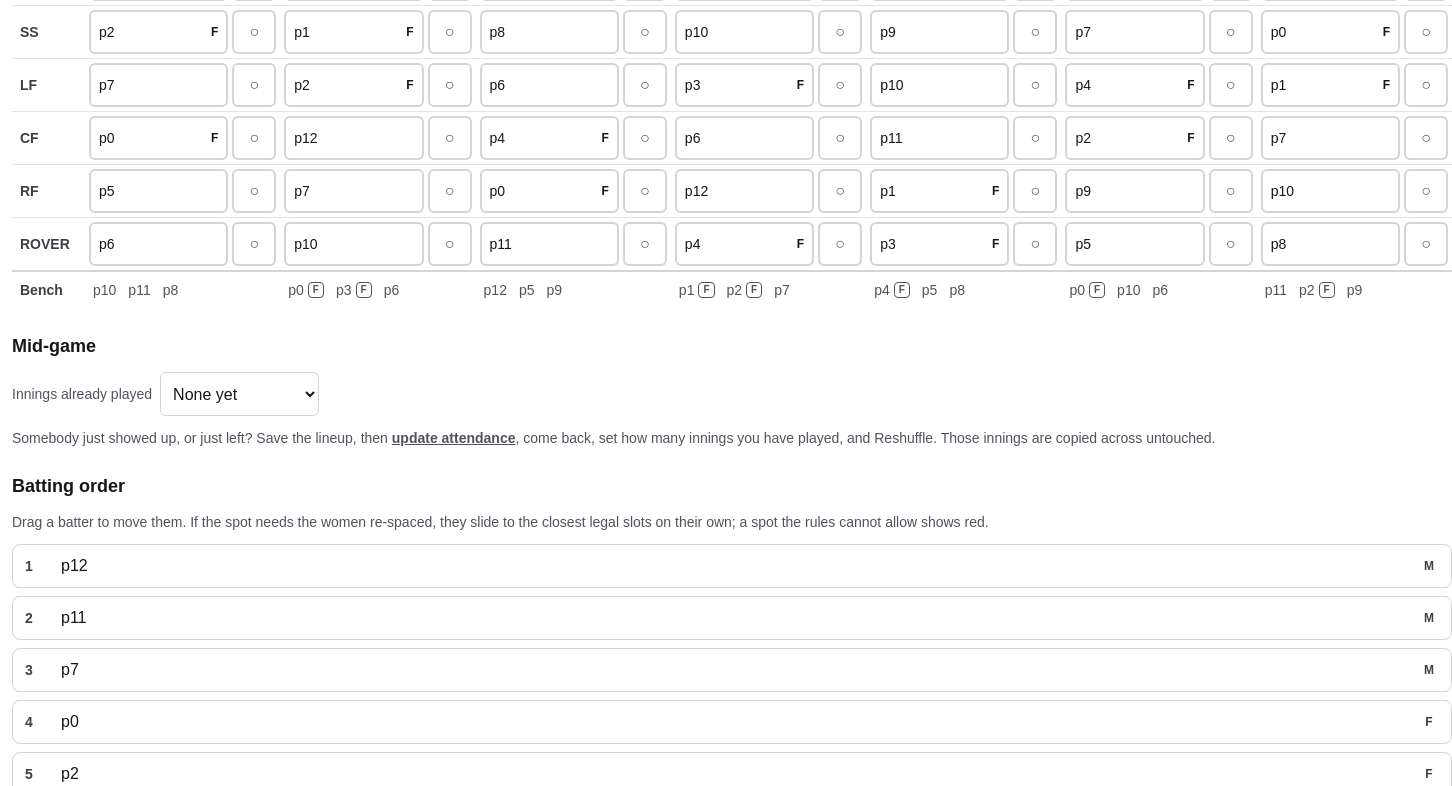
it: batting-order reorder wiring › locking any innings removes the drag entirely
(page scrolled)
Select "Through inning 1" in the dropdown labelled "Innings already played": (240,394) [160,372,319,416]
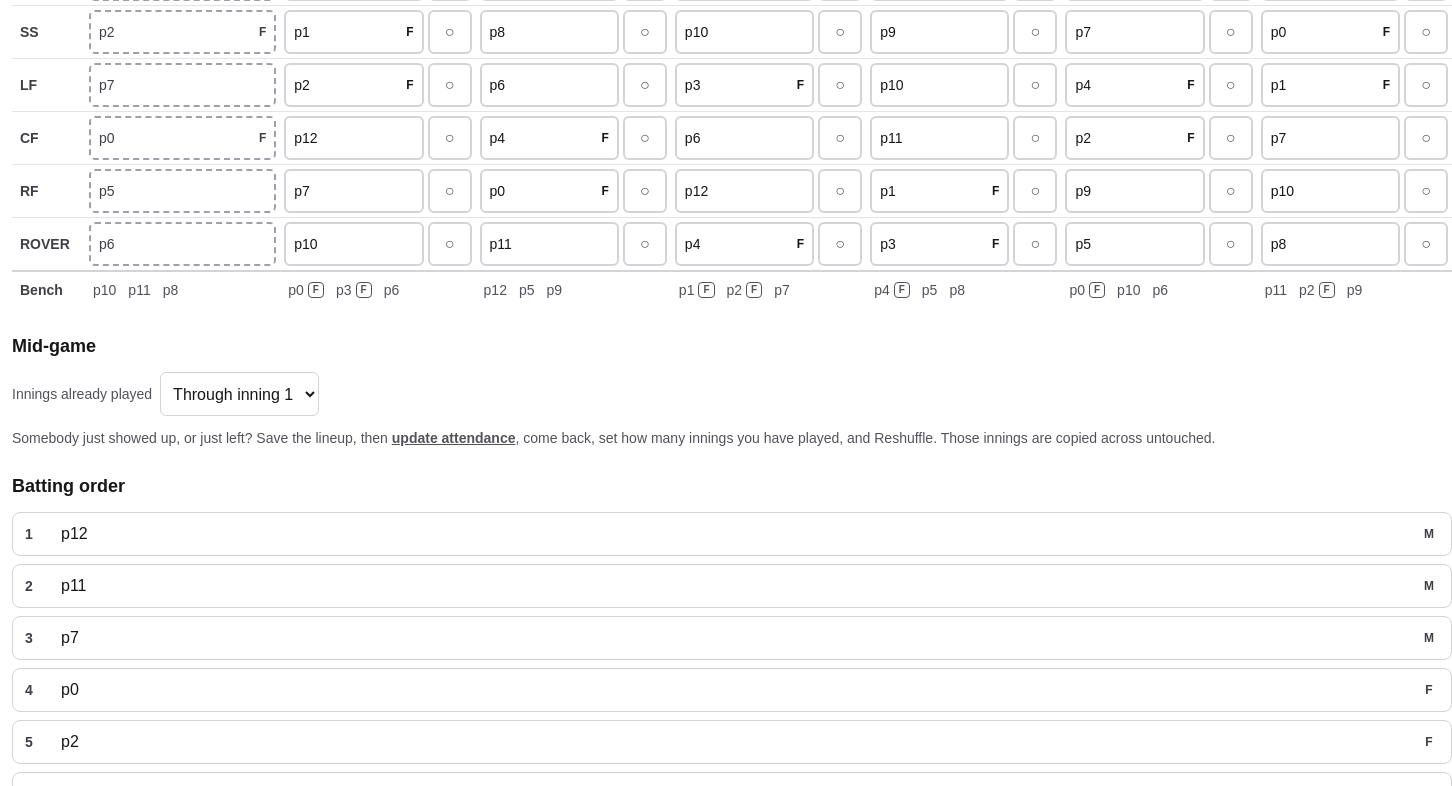
Result: the text "Drag a batter to move them" is gone
